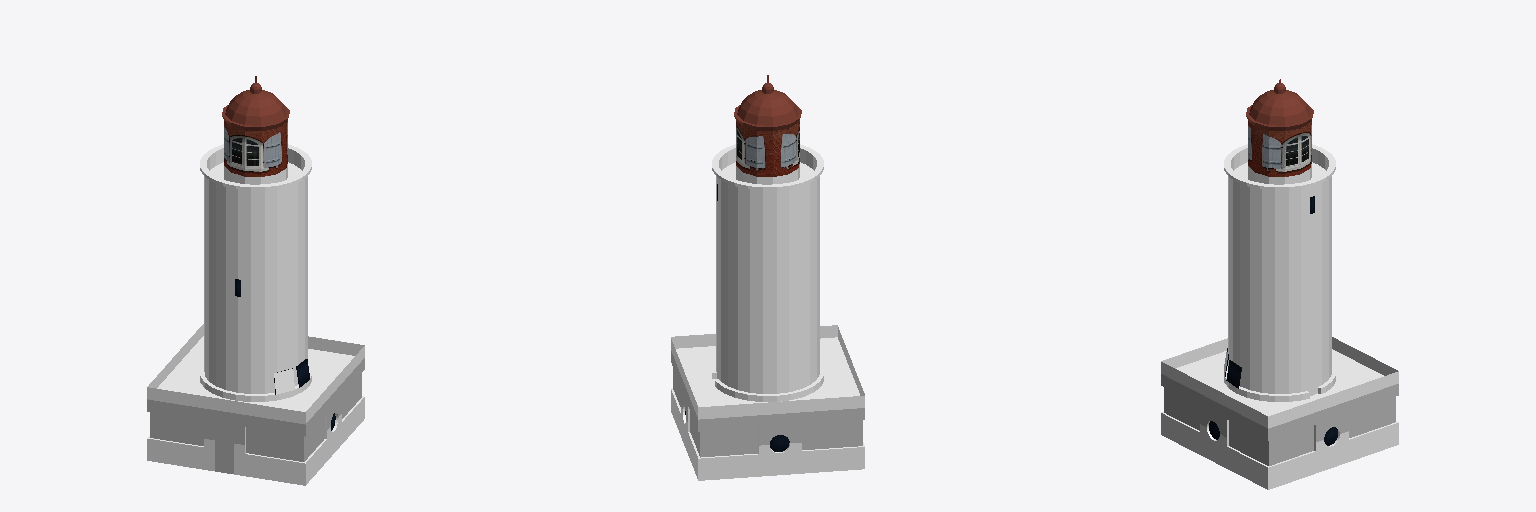
The picture shows the model from 3 angles: view 1: azimuth 30°, elevation 25°; view 2: azimuth 150°, elevation 25°; view 3: azimuth 270°, elevation 25°; orthographic projection.
Visible parts, largest first — view 1: Group_001, Group_002, Component_1_001, Component_1_002, Component_1_003, Component_1_004; view 2: Group_001, Group_002, Component_1_004, Component_1_002; view 3: Group_001, Group_002, Component_1_003, Component_1_002, Component_1_004, Component_1_001.
Boxes of the visible parts, <box> form: Group_001: <box>147,76,364,485</box>; Group_002: <box>224,120,287,176</box>; Component_1_001: <box>147,387,305,424</box>; Component_1_002: <box>306,346,364,422</box>; Component_1_003: <box>308,336,364,355</box>; Component_1_004: <box>148,324,203,388</box>; Group_001: <box>671,75,864,480</box>; Group_002: <box>736,120,799,176</box>; Component_1_004: <box>698,396,864,419</box>; Component_1_002: <box>671,325,837,348</box>; Group_001: <box>1161,79,1398,489</box>; Group_002: <box>1248,120,1311,176</box>; Component_1_003: <box>1268,371,1398,428</box>; Component_1_002: <box>1161,362,1267,427</box>; Component_1_004: <box>1332,337,1397,375</box>; Component_1_001: <box>1161,338,1227,368</box>.
Size of the model in its own units: 416 by 708 by 416.
Materials: 17 (2 with a texture image).